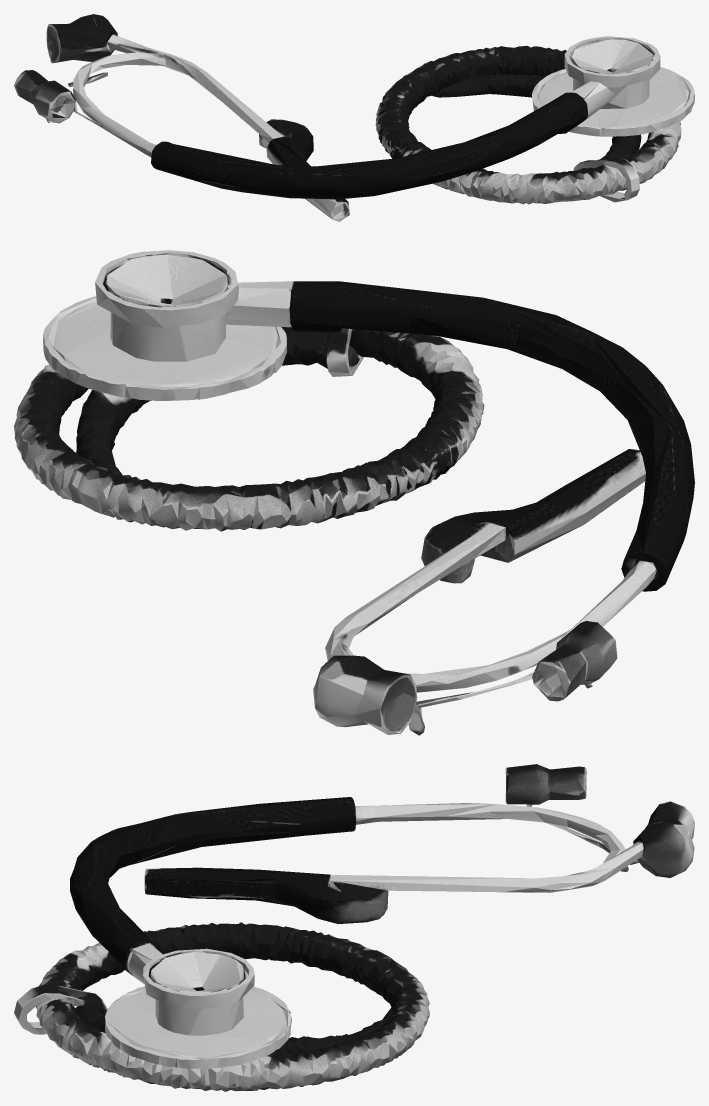
Rendered from fonendoscopio_N.glb.
3 renders of one model, top to bottom at view 1: azimuth 30°, elevation 25°; view 2: azimuth 150°, elevation 25°; view 3: azimuth 270°, elevation 25°, orthographic. The views are drawn at different scales.
Parts seen in each view (by area): view 1: Mesh_0; view 2: Mesh_0; view 3: Mesh_0.
Part boxes in pixels (x1,y1,x2,y2): Mesh_0: (14, 14, 694, 221); Mesh_0: (14, 250, 694, 735); Mesh_0: (14, 764, 694, 1091).
Bounding box in the file's own units: 0.3 × 0.0461 × 0.297.
1 material, 1 textured.
